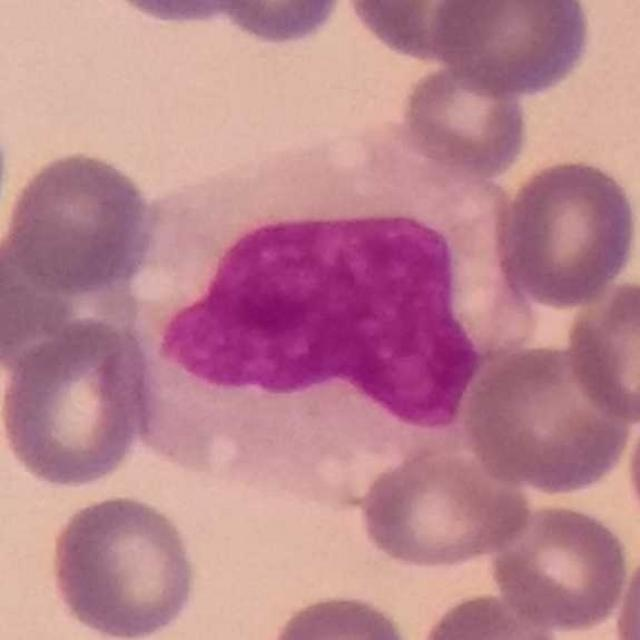Monocyte: (118, 124, 542, 489)
RBC: (453, 324, 633, 485), (0, 314, 157, 492), (1, 146, 160, 296), (355, 440, 535, 572), (489, 153, 640, 310), (45, 491, 202, 640), (487, 498, 632, 636), (395, 55, 532, 184), (431, 0, 595, 100), (561, 275, 640, 425), (342, 0, 511, 66), (259, 587, 418, 640), (415, 587, 571, 640), (204, 0, 348, 50), (92, 0, 283, 29), (610, 538, 640, 640)
